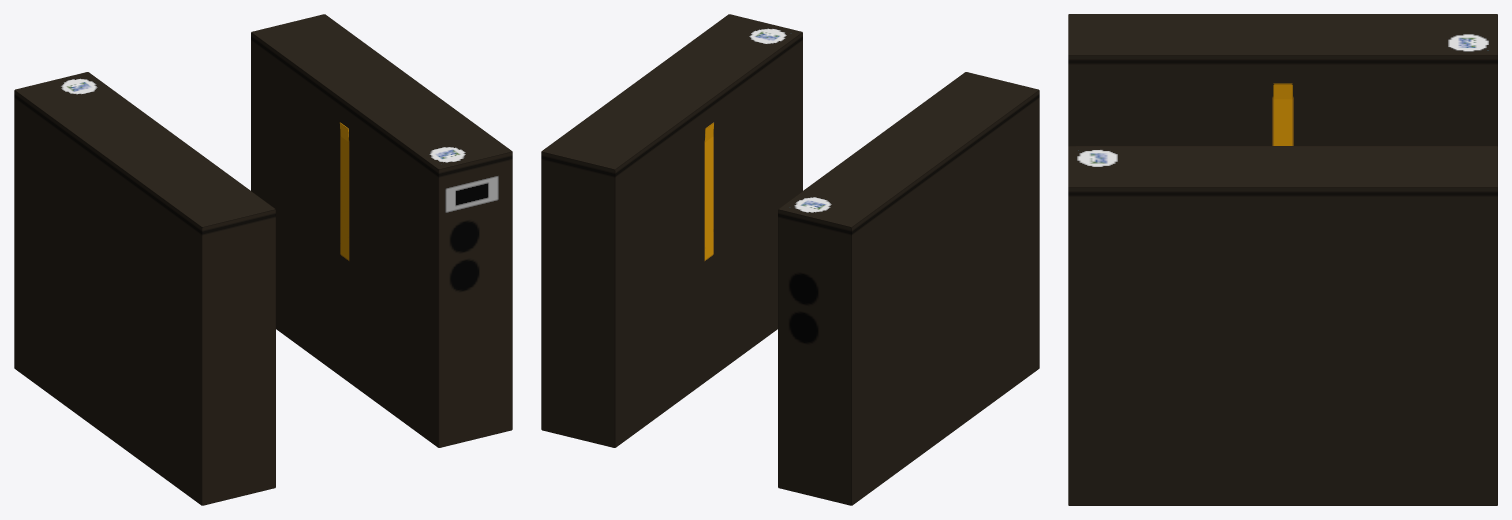
File: dc_metro_fare_gate_3_entrance_open.obj
3 renders of one model, left to right at view 1: azimuth 30°, elevation 25°; view 2: azimuth 150°, elevation 25°; view 3: azimuth 270°, elevation 25°, orthographic. The views are drawn at different scales.
Parts seen in each view (by area): view 1: cube; view 2: cube; view 3: cube.
Part boxes in pixels (x1,y1,x2,y2): cube: [14, 14, 512, 505]; cube: [541, 14, 1039, 505]; cube: [1068, 14, 1497, 505].
Bounding box in the file's own units: 1.31 × 1.13 × 1.38.
1 material, 1 textured.
